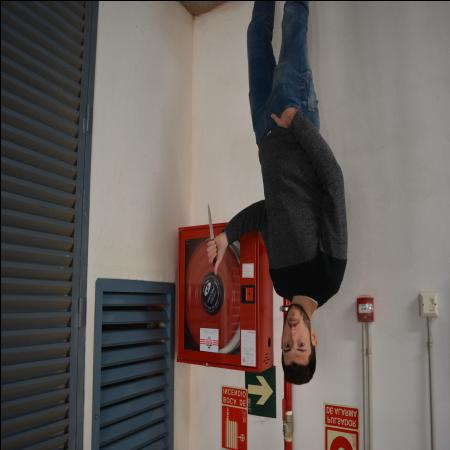long weapon: (205, 200, 218, 269)
